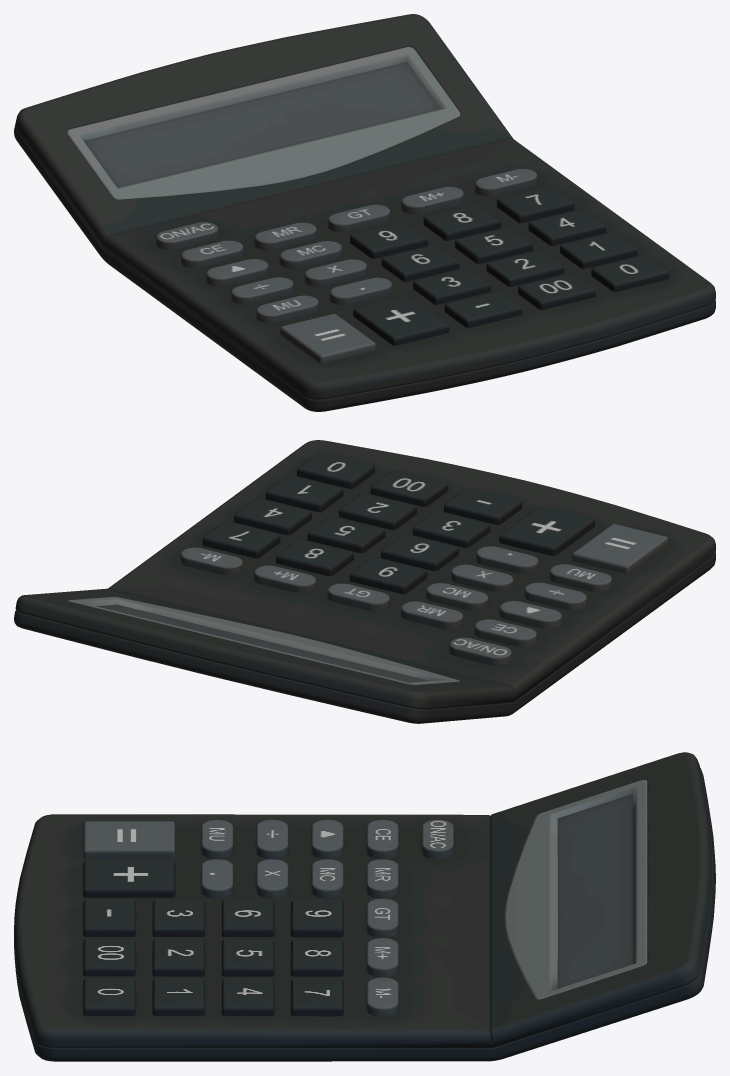
File: Calculator.glb
The picture shows the model from 3 angles, top to bottom: view 1: azimuth 30°, elevation 25°; view 2: azimuth 150°, elevation 25°; view 3: azimuth 270°, elevation 25°; orthographic projection. The views are drawn at different scales.
Parts seen in each view (by area): view 1: mesh_id25; view 2: mesh_id25; view 3: mesh_id25.
Part boxes in pixels (bbox=[...]): mesh_id25: bbox=[14, 14, 715, 411]; mesh_id25: bbox=[14, 440, 715, 723]; mesh_id25: bbox=[14, 752, 715, 1061].
Bounding box in the file's own units: 1024 × 217 × 1379.
1 material, 1 textured.
